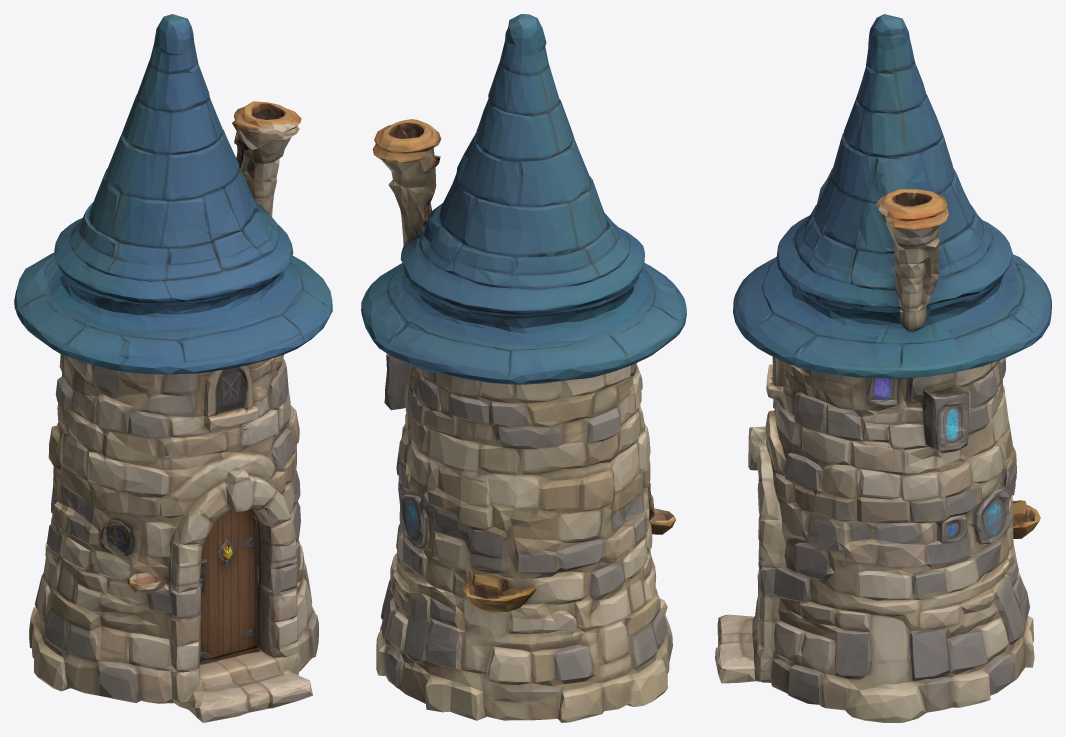
The model's file is Simple_wizard_3d_buil_0521171327_texture.fbx.
The picture shows the model from 3 angles, left to right: view 1: azimuth 30°, elevation 25°; view 2: azimuth 150°, elevation 25°; view 3: azimuth 270°, elevation 25°; orthographic projection. The views are drawn at different scales.
Parts seen in each view (by area): view 1: temp; view 2: temp; view 3: temp.
Boxes of the visible parts, x1=… form: temp: x1=14, y1=14, x2=332, y2=722; temp: x1=361, y1=14, x2=686, y2=722; temp: x1=715, y1=14, x2=1051, y2=722.
Size of the model in its own units: 90.14 by 200 by 95.18.
Materials: 1 (1 with a texture image).
